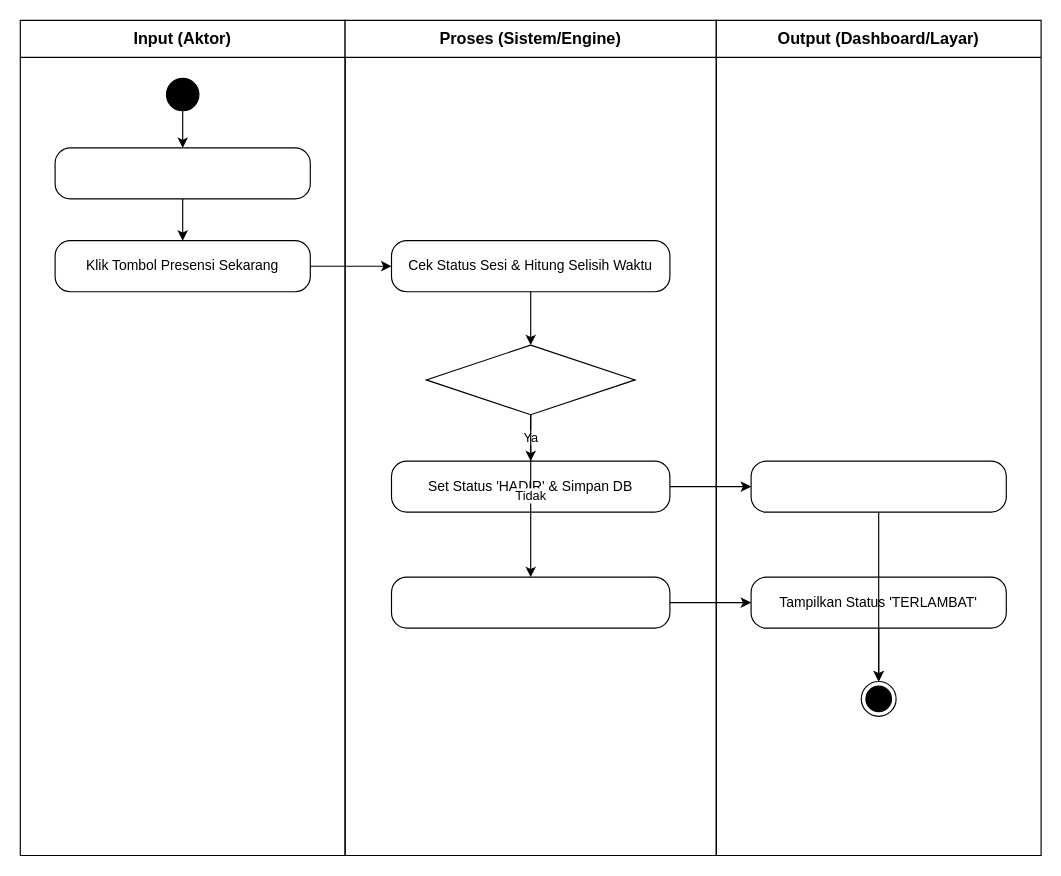
Some shapes in this 1061 by 876 pixel diagram are drawn without their labels. The shapes that lost their labels are listed below. From the top down, each one's centre as x and y in pixels, then its label:
point 182,173: Buka Menu Presensi Praktikum
point 530,379: Dalam Toleransi Waktu?
point 878,486: Tampilkan Status 'HADIR'
point 530,602: Set Status 'TERLAMBAT' & Simpan DB
